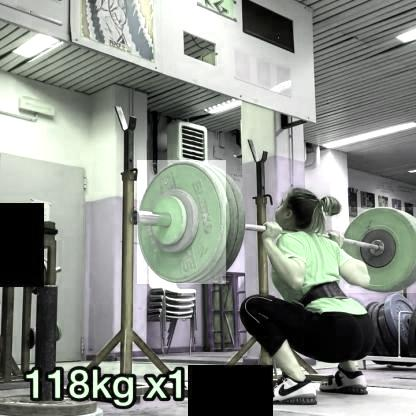barbell: (138, 160, 226, 284), (341, 208, 416, 294)
